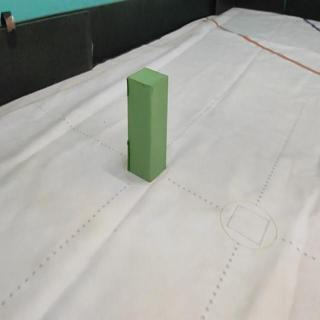greenbox: (128, 68, 168, 181)
